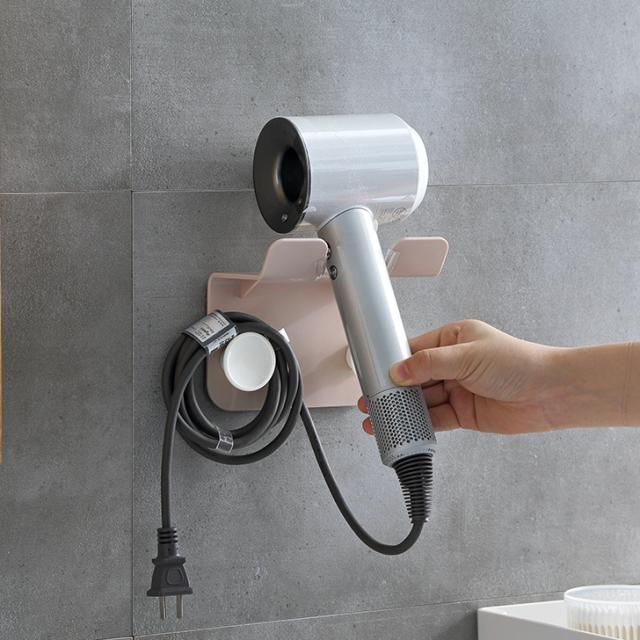dryer: (209, 86, 507, 596)
